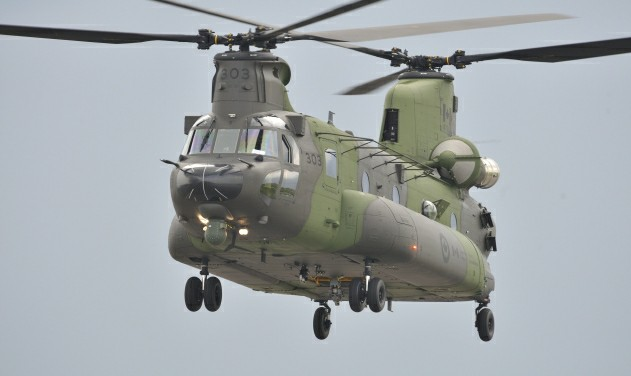chinook: (139, 21, 519, 345)
